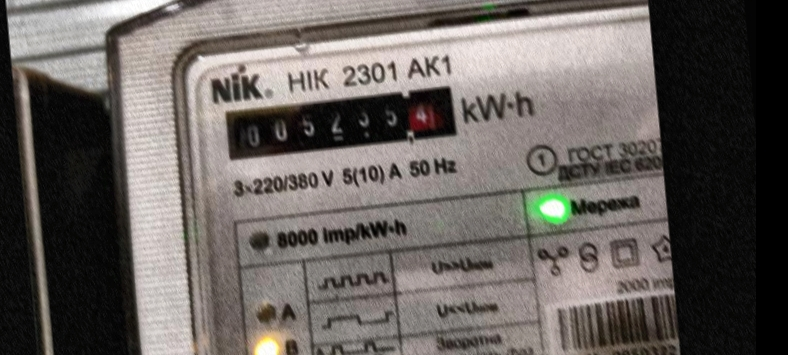0: (243, 121, 261, 147), (271, 117, 288, 142)
2: (325, 107, 344, 135)
3: (352, 102, 371, 128)
4: (410, 97, 430, 127)
5: (380, 99, 398, 128), (299, 111, 315, 137)
screen: (210, 75, 465, 169)
